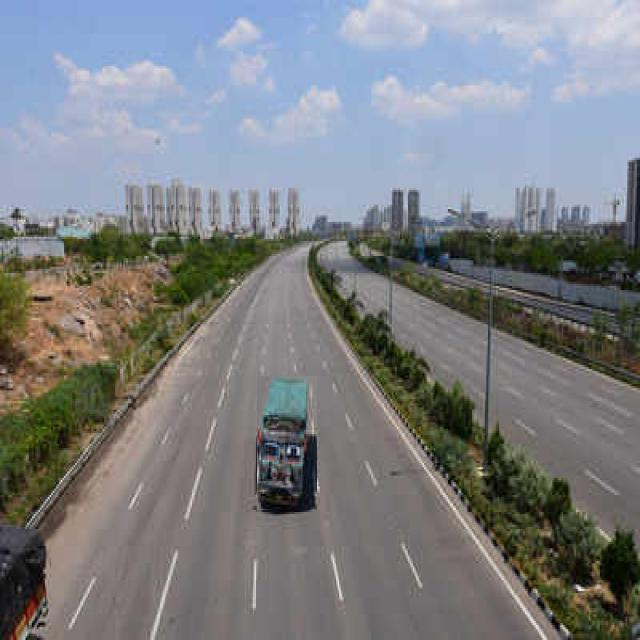truck: (257, 376, 316, 510)
